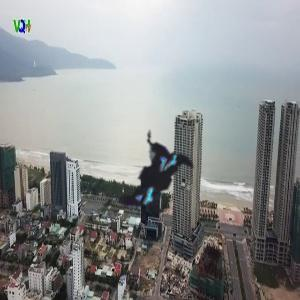drone: (52, 79, 248, 275)
